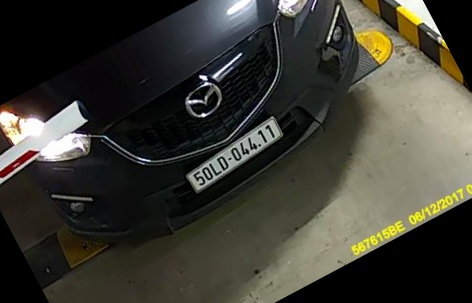plate: (178, 110, 287, 204)
